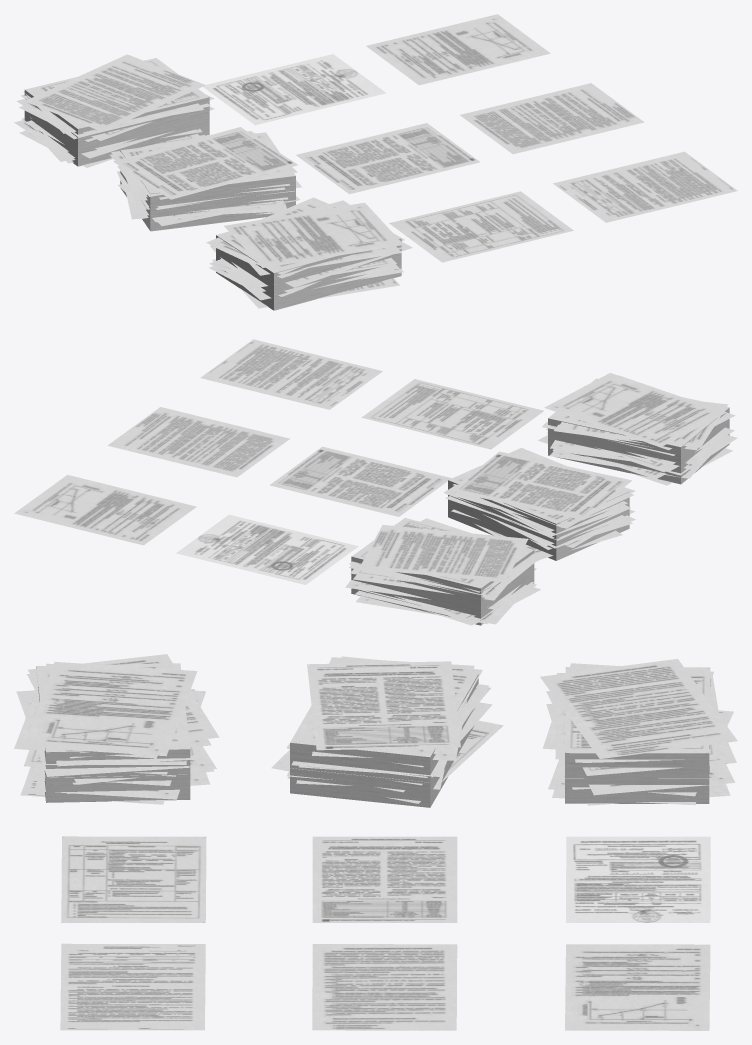
File: papers.fbx
3 renders of one model, top to bottom at view 1: azimuth 30°, elevation 25°; view 2: azimuth 150°, elevation 25°; view 3: azimuth 270°, elevation 25°, orthographic. The views are drawn at different scales.
Visible parts, largest first — view 1: Papers.003, Papers.001, Papers.002, Papers.004, Papers.008, Papers.007, Paper, Papers.006, Papers.005; view 2: Papers.001, Papers.003, Papers.002, Papers.004, Paper, Papers.006, Papers.008, Papers.007, Papers.005; view 3: Papers.003, Papers.002, Papers.001, Papers.005, Paper, Papers.004, Papers.008, Papers.007, Papers.006.
Part boxes in pixels (x1,y1,x2,y2): Papers.003: (206,197,412,310); Papers.001: (14,54,214,167); Papers.002: (109,127,301,231); Papers.004: (389,191,573,262); Papers.008: (460,83,644,154); Papers.007: (366,14,550,85); Paper: (553,151,737,222); Papers.006: (203,54,386,125); Papers.005: (296,123,480,194); Papers.001: (345,518,543,625); Papers.003: (538,373,737,485); Papers.002: (443,448,635,560); Papers.004: (361,379,543,449); Paper: (200,339,382,409); Papers.006: (176,514,358,584); Papers.008: (108,407,289,477); Papers.007: (14,475,196,545); Papers.005: (269,446,451,516); Papers.003: (14,654,219,804); Papers.002: (271,656,503,807); Papers.001: (540,659,737,805); Papers.005: (312,836,457,922); Paper: (60,943,205,1030); Papers.004: (61,836,206,922); Papers.008: (312,944,457,1030); Papers.007: (565,944,710,1030); Papers.006: (566,836,710,922).
Size of the model in its own units: 2402 by 189 by 2258.
